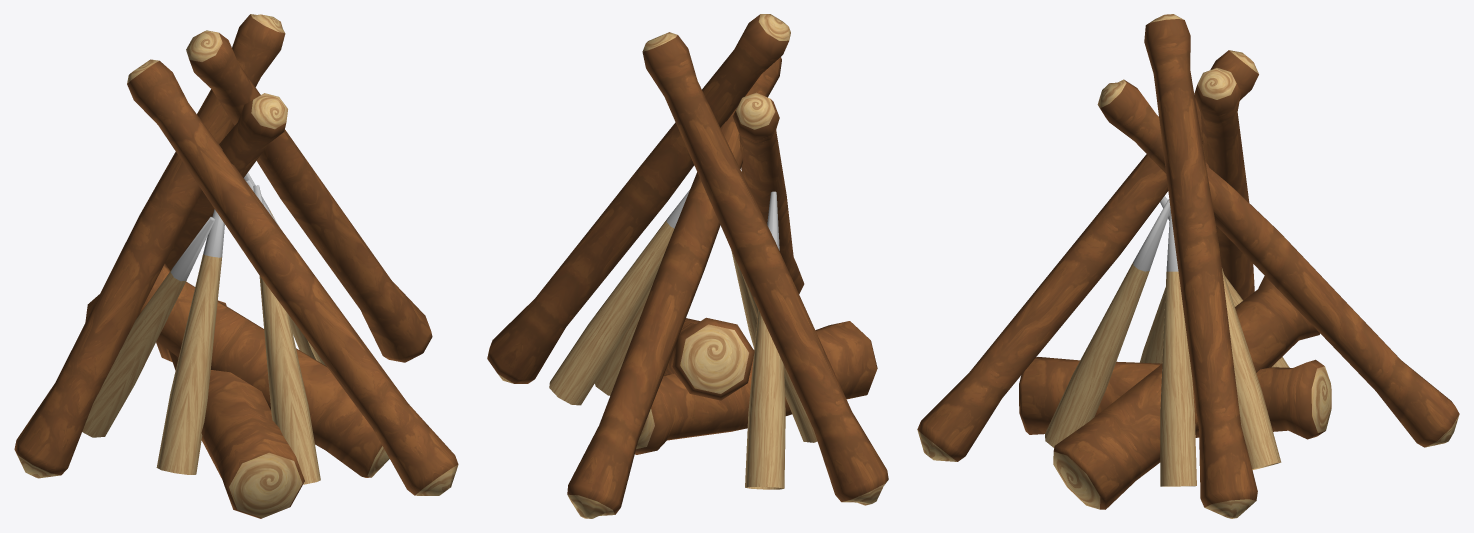
The model's file is Campfire.fbx.
The picture shows the model from 3 angles, left to right: view 1: azimuth 30°, elevation 25°; view 2: azimuth 150°, elevation 25°; view 3: azimuth 270°, elevation 25°; orthographic projection. The views are drawn at different scales.
Visible parts, largest first — view 1: LogFire; view 2: LogFire; view 3: LogFire.
Boxes of the visible parts, <box> form: LogFire: <box>14,14,458,518</box>; LogFire: <box>487,14,888,518</box>; LogFire: <box>917,14,1459,518</box>.
Size of the model in its own units: 21.01 by 22.03 by 24.9.
